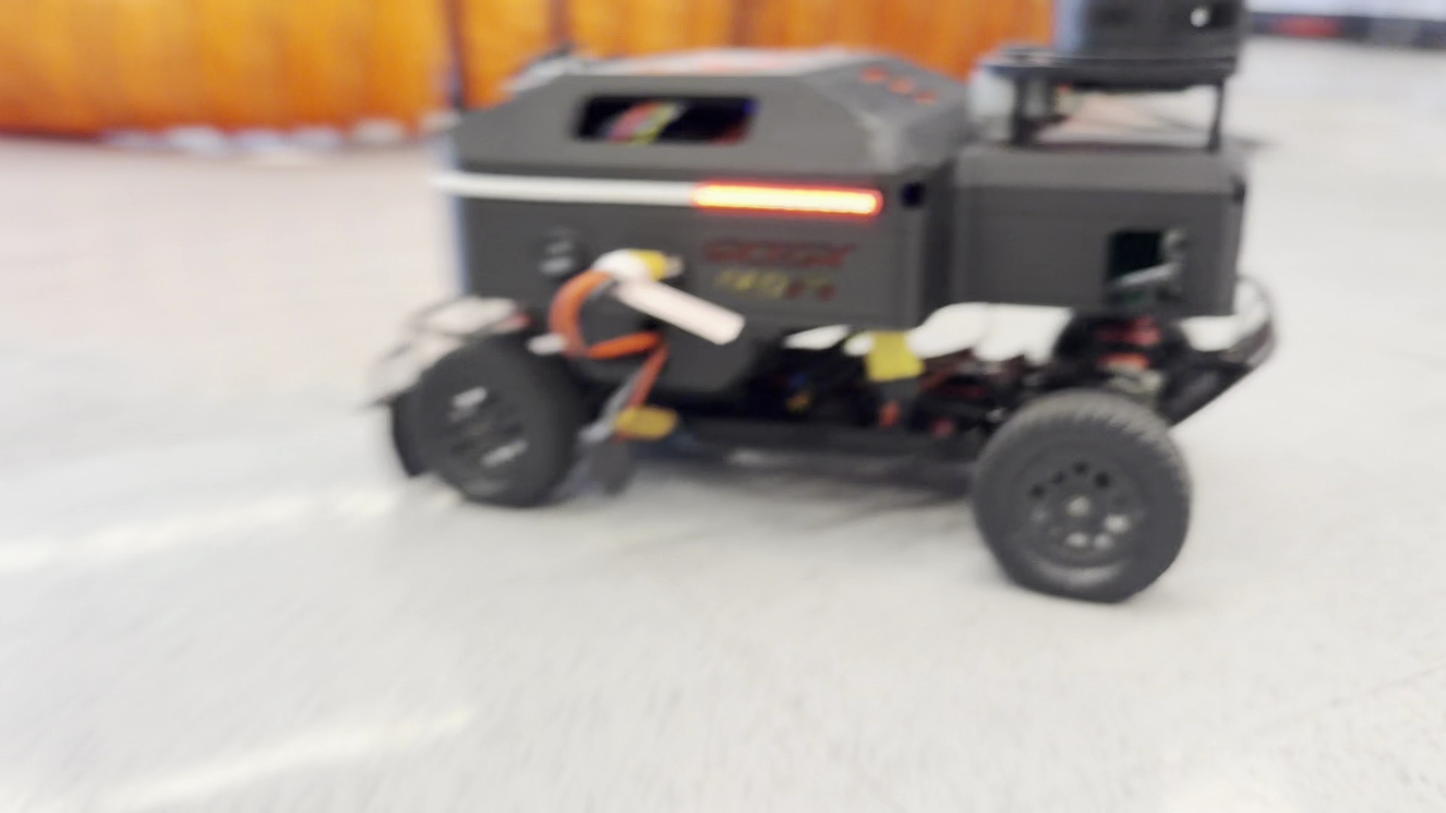racecar: (387, 6, 1281, 598)
